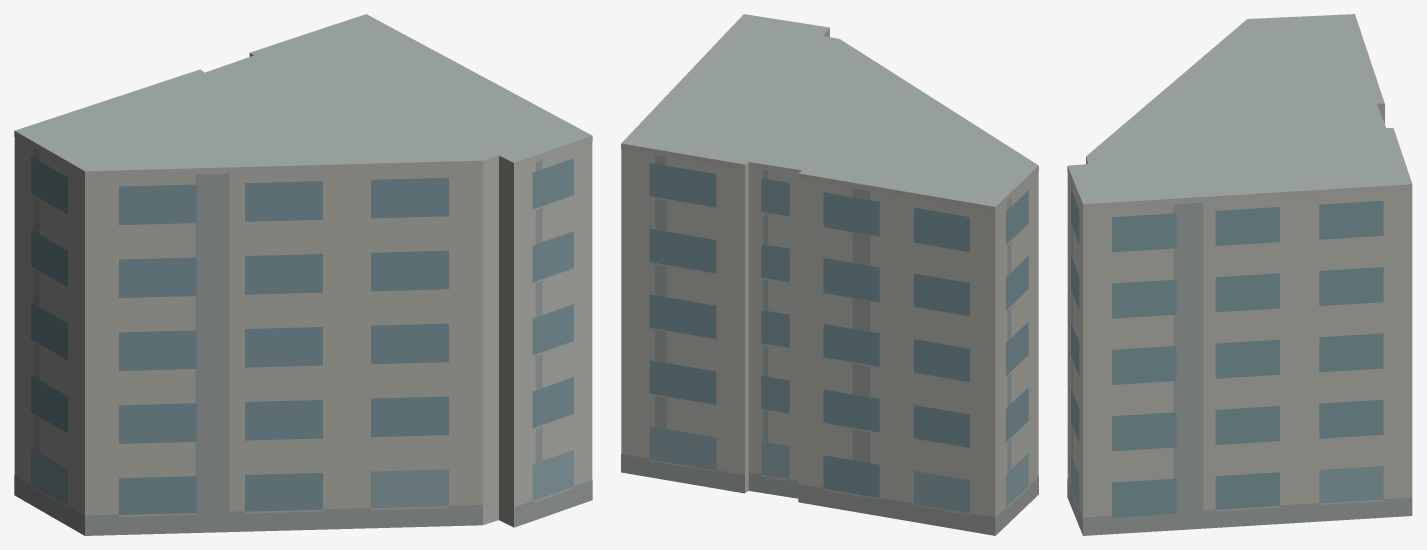
The model's file is survey-upis-32825059.glb.
The picture shows the model from 3 angles, left to right: view 1: azimuth 30°, elevation 25°; view 2: azimuth 150°, elevation 25°; view 3: azimuth 270°, elevation 25°; orthographic projection. The views are drawn at different scales.
Parts seen in each view (by area): view 1: survey-upis-32825059.tmp; view 2: survey-upis-32825059.tmp; view 3: survey-upis-32825059.tmp.
Part boxes in pixels (x1=…): survey-upis-32825059.tmp: x1=14, y1=14, x2=592, y2=535; survey-upis-32825059.tmp: x1=621, y1=14, x2=1038, y2=535; survey-upis-32825059.tmp: x1=1067, y1=14, x2=1412, y2=535.
Bounding box in the file's own units: 17.35 × 14.1 × 13.3.
